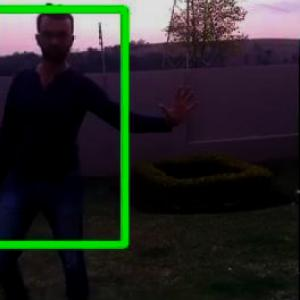follow_hand: (160, 83, 207, 127)
